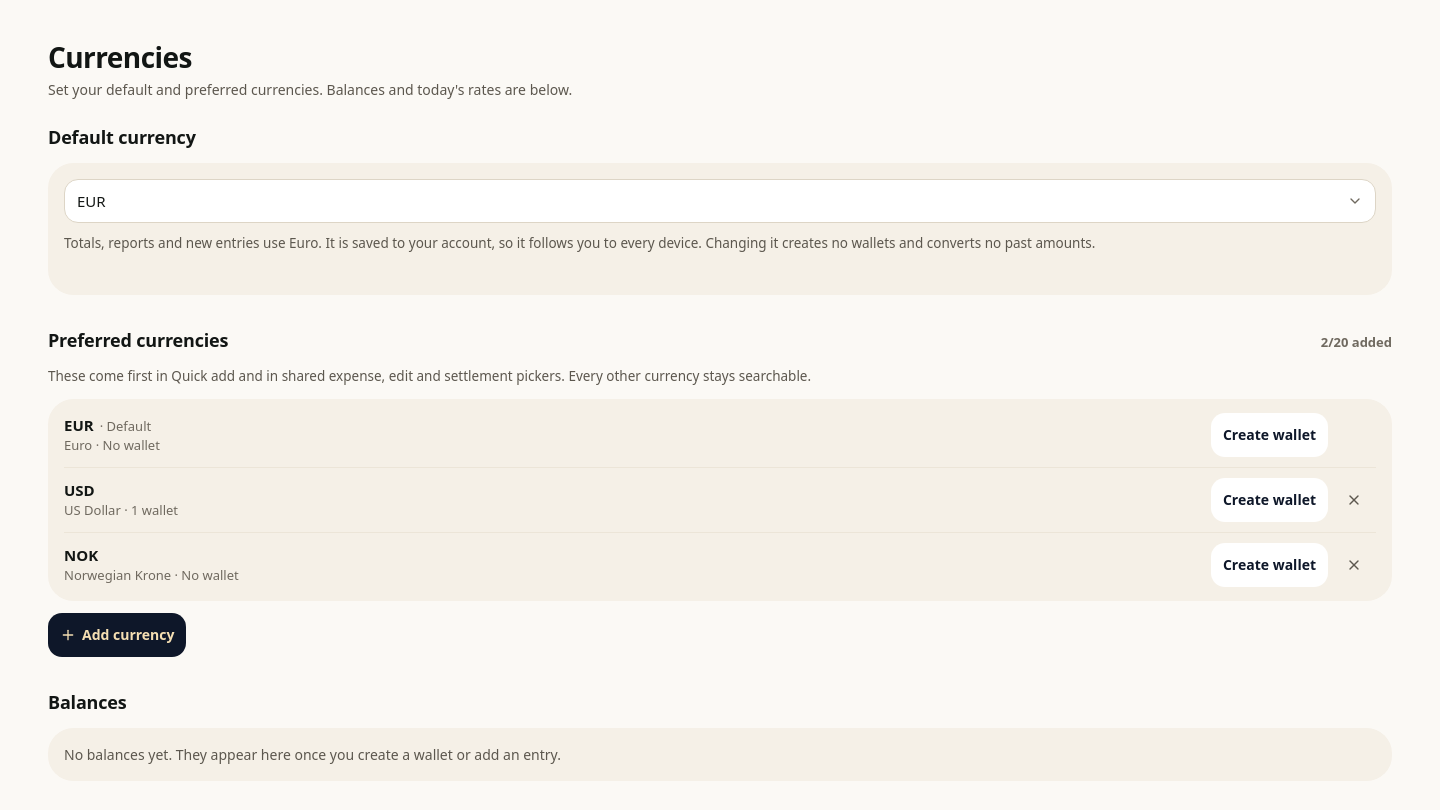
Test case: /currencies setup › offers a separate, optional Create wallet action per currency using the existing dialog
Expected: the list named "Your currencies" is shown, [48,398,1392,600]
Expected: the list named "Your currencies" shows "1 wallet", [131,501,178,519]
Click the button with aria-label "Create NOK wallet" at x=1270, y=564, box [1211,542,1328,586]
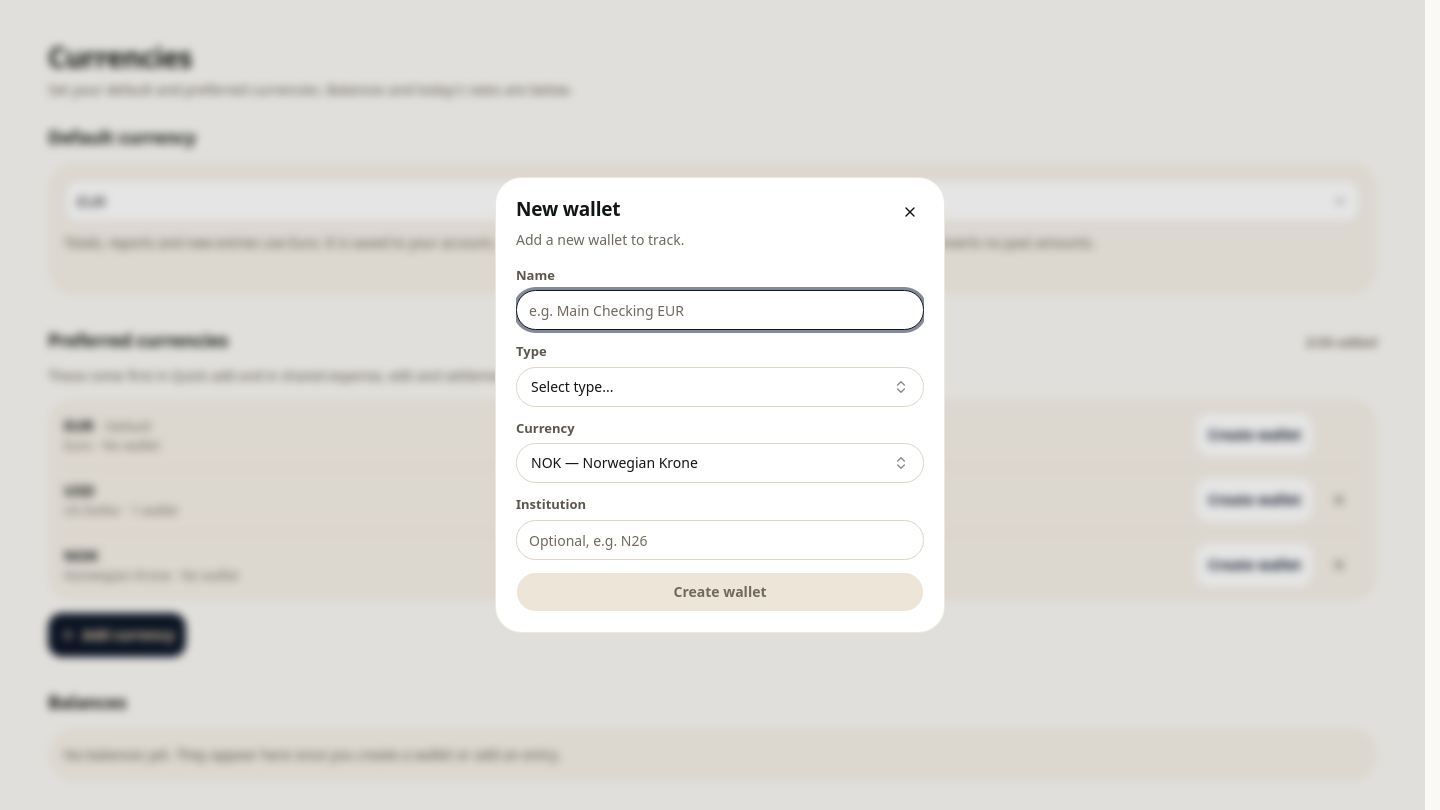
Expected: the heading "New wallet" is shown, [516,198,620,222]
Expected: the dialog shows "NOK — Norwegian Krone", [516,443,924,483]
Expected: the button "Create wallet" is disabled, [516,572,924,612]
